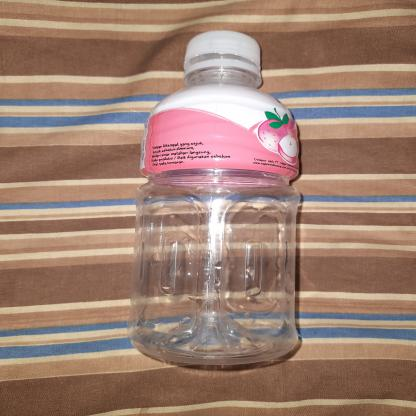bottle: (123, 27, 305, 370)
